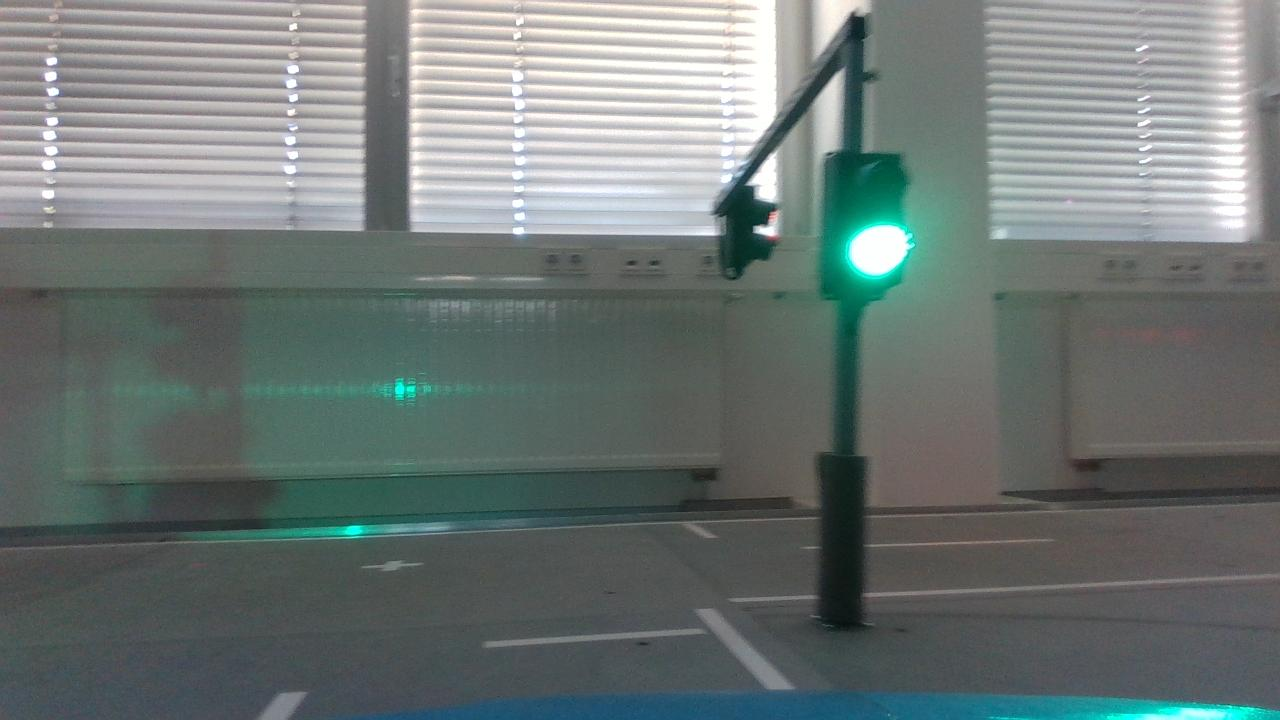traffic_light_green: (817, 137, 929, 318)
